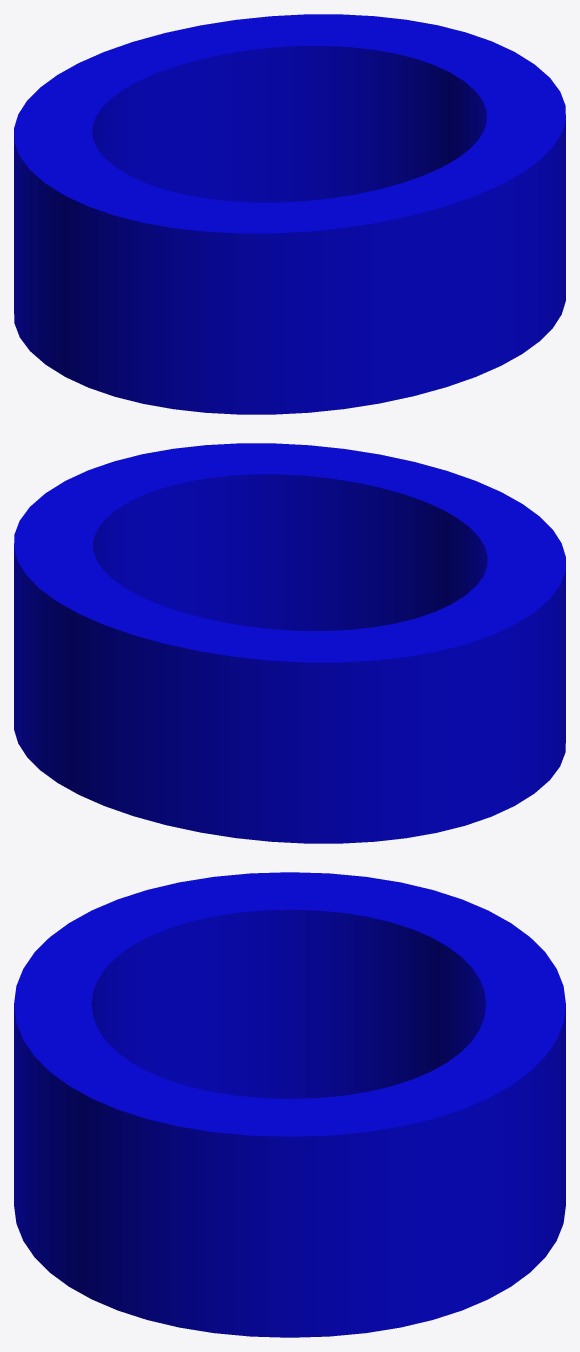
The model's file is nineth block.fbx.
The picture shows the model from 3 angles, top to bottom: view 1: azimuth 30°, elevation 25°; view 2: azimuth 150°, elevation 25°; view 3: azimuth 270°, elevation 25°; orthographic projection. The views are drawn at different scales.
Visible parts, largest first — view 1: Text.009; view 2: Text.009; view 3: Text.009.
Part boxes in pixels (x1,y1,x2,y2): Text.009: (14, 14, 565, 414); Text.009: (14, 443, 565, 843); Text.009: (14, 872, 565, 1337).
Size of the model in its own units: 56.5 by 20 by 49.8.
